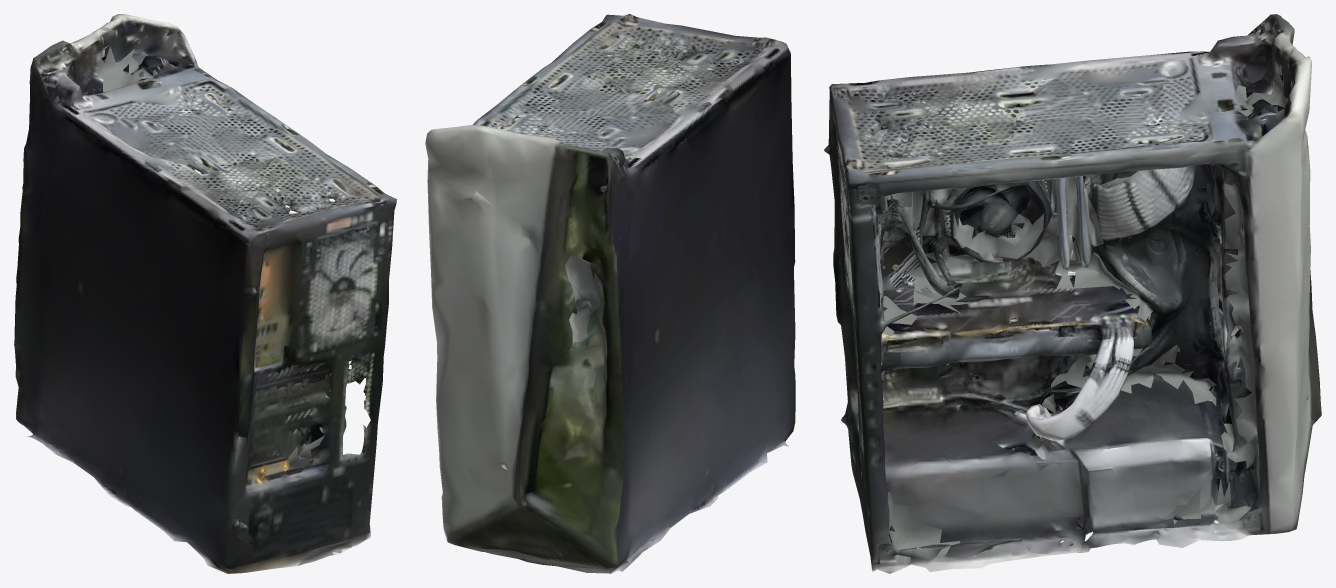
Rendered from mesh_lowpoly.glb.
3 renders of one model, left to right at view 1: azimuth 30°, elevation 25°; view 2: azimuth 150°, elevation 25°; view 3: azimuth 270°, elevation 25°, orthographic. The views are drawn at different scales.
Parts seen in each view (by area): view 1: mesh_lowpoly_material0000.001, mesh_lowpoly_material0001.001, mesh_lowpoly_material0002.001, mesh_lowpoly_material0003.001, mesh_lowpoly_material0005.001, mesh_lowpoly_material0004.001, mesh_lowpoly_material0006.001; view 2: mesh_lowpoly_material0000.001, mesh_lowpoly_material0001.001, mesh_lowpoly_material0003.001, mesh_lowpoly_material0002.001, mesh_lowpoly_material0004.001; view 3: mesh_lowpoly_material0000.001, mesh_lowpoly_material0001.001, mesh_lowpoly_material0002.001, mesh_lowpoly_material0003.001, mesh_lowpoly_material0005.001, mesh_lowpoly_material0004.001, mesh_lowpoly_material0006.001.
Boxes of the visible parts, bbox=[...] form: mesh_lowpoly_material0000.001: bbox=[14, 14, 395, 572]; mesh_lowpoly_material0001.001: bbox=[22, 17, 396, 568]; mesh_lowpoly_material0002.001: bbox=[14, 31, 367, 573]; mesh_lowpoly_material0003.001: bbox=[16, 43, 396, 554]; mesh_lowpoly_material0005.001: bbox=[30, 17, 366, 546]; mesh_lowpoly_material0004.001: bbox=[23, 37, 367, 453]; mesh_lowpoly_material0006.001: bbox=[15, 26, 365, 545]; mesh_lowpoly_material0000.001: bbox=[425, 14, 795, 573]; mesh_lowpoly_material0001.001: bbox=[449, 15, 788, 573]; mesh_lowpoly_material0003.001: bbox=[442, 40, 771, 559]; mesh_lowpoly_material0002.001: bbox=[443, 37, 792, 564]; mesh_lowpoly_material0004.001: bbox=[439, 35, 689, 564]; mesh_lowpoly_material0000.001: bbox=[828, 14, 1321, 571]; mesh_lowpoly_material0001.001: bbox=[833, 14, 1306, 573]; mesh_lowpoly_material0002.001: bbox=[847, 26, 1297, 571]; mesh_lowpoly_material0003.001: bbox=[839, 31, 1307, 573]; mesh_lowpoly_material0005.001: bbox=[824, 47, 1301, 555]; mesh_lowpoly_material0004.001: bbox=[824, 35, 1297, 564]; mesh_lowpoly_material0006.001: bbox=[846, 35, 1291, 547].
Bounding box in the file's own units: 1.3 × 2.57 × 2.38.
Materials: 8 (8 with a texture image).
